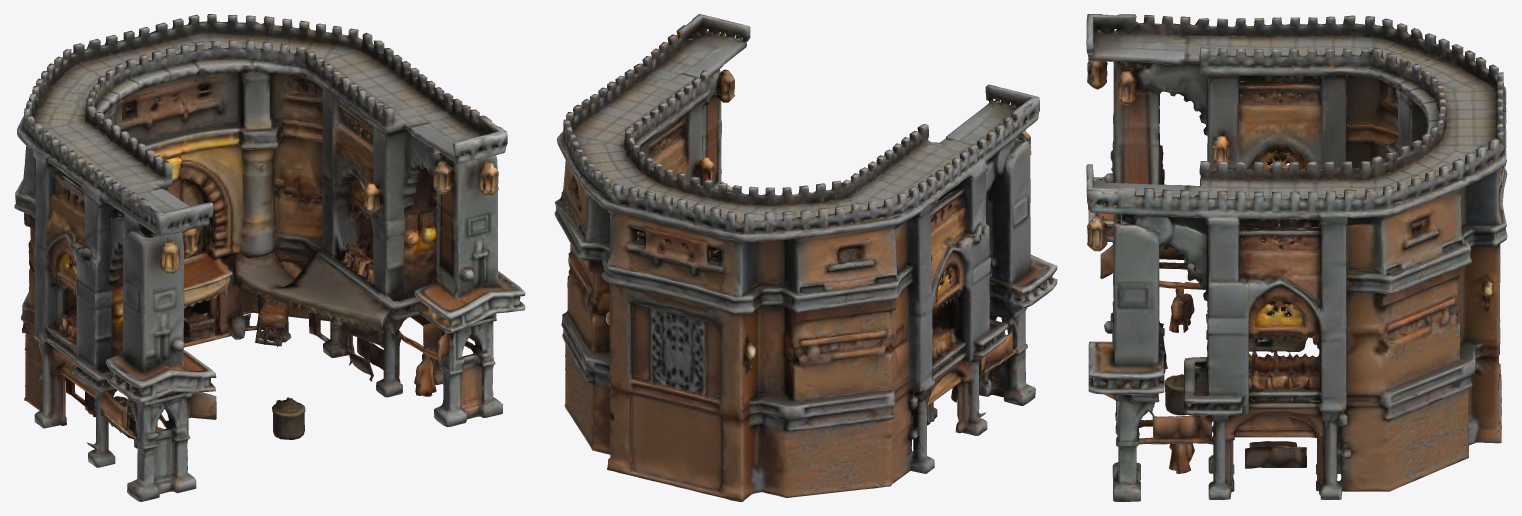
File: Dwarven Market #9_final.glb
3 renders of one model, left to right at view 1: azimuth 30°, elevation 25°; view 2: azimuth 150°, elevation 25°; view 3: azimuth 270°, elevation 25°, orthographic. The views are drawn at different scales.
Bounding box in the file's own units: 1.91 × 1.38 × 1.71.
1 material, 1 textured.
